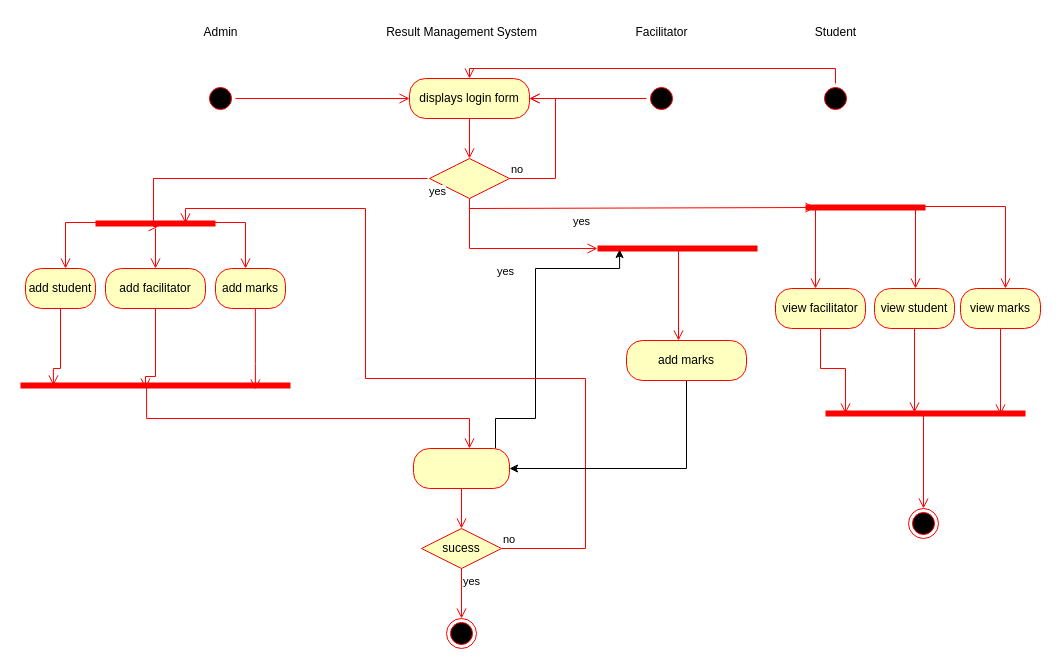
This 1058x666 diagram has some shape labels left out. Here are the shapes that lost their labels. From the top down, the centre of each, then its label:
At point (469, 178): "match?".
At point (461, 468): "stores it.".
